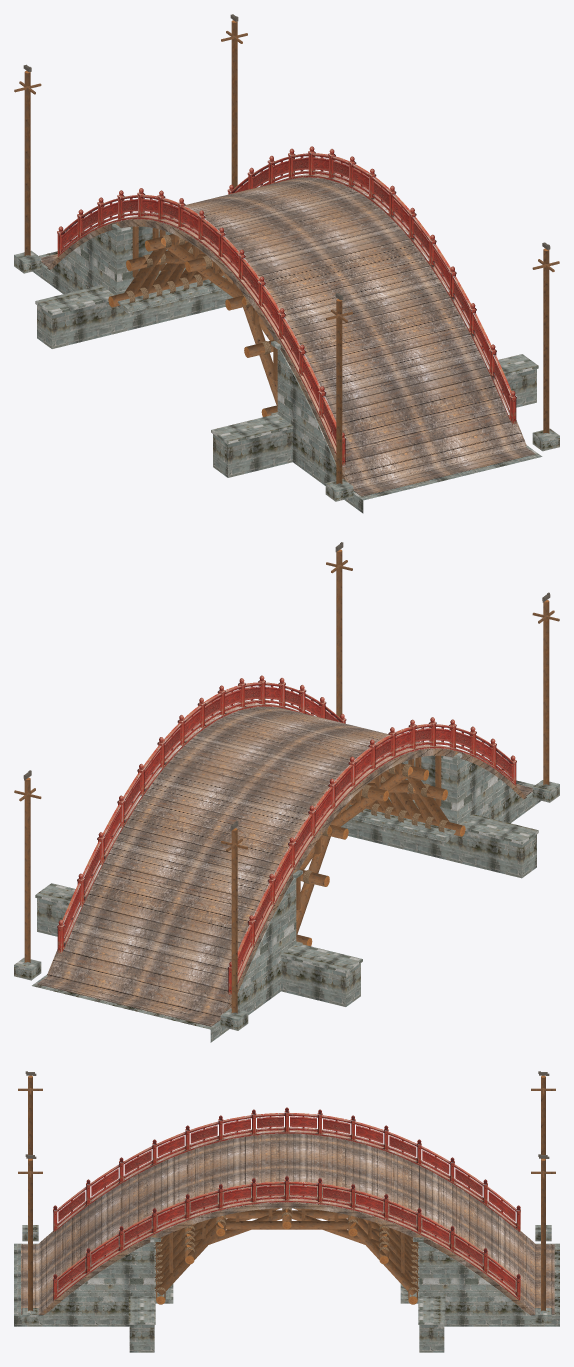
The model's file is qm_bridge.glb.
The picture shows the model from 3 angles, top to bottom: view 1: azimuth 30°, elevation 25°; view 2: azimuth 150°, elevation 25°; view 3: azimuth 270°, elevation 25°; orthographic projection. The views are drawn at different scales.
Parts seen in each view (by area): view 1: plank, stone, rail_a, rail_b, post, stonetop, log, timber, rope; view 2: plank, stone, rail_a, post, rail_b, stonetop, log, timber, rope; view 3: plank, stone, rail_a, rail_b, log, timber, stonetop, post, rope, endgrain.
Part boxes in pixels (bbox=[...]): plank: bbox=[41, 177, 535, 496]; stone: bbox=[33, 226, 542, 513]; rail_a: bbox=[57, 146, 516, 465]; rail_b: bbox=[78, 153, 511, 454]; post: bbox=[14, 22, 559, 483]; stonetop: bbox=[14, 224, 559, 501]; log: bbox=[110, 234, 277, 415]; timber: bbox=[47, 219, 526, 482]; rope: bbox=[125, 234, 270, 354]; plank: bbox=[37, 706, 532, 1026]; stone: bbox=[32, 755, 540, 1042]; rail_a: bbox=[57, 675, 516, 994]; post: bbox=[14, 551, 559, 1013]; rail_b: bbox=[82, 682, 515, 945]; stonetop: bbox=[14, 753, 559, 1030]; log: bbox=[296, 763, 462, 945]; timber: bbox=[47, 749, 526, 1011]; rope: bbox=[303, 764, 448, 883]; plank: bbox=[21, 1133, 554, 1314]; stone: bbox=[14, 1242, 559, 1352]; rail_a: bbox=[53, 1107, 520, 1300]; rail_b: bbox=[55, 1113, 485, 1299]; log: bbox=[154, 1208, 419, 1299]; timber: bbox=[38, 1134, 535, 1315]; stonetop: bbox=[22, 1225, 551, 1324]; post: bbox=[18, 1077, 555, 1310]; rope: bbox=[155, 1208, 418, 1292]; endgrain: bbox=[28, 1075, 545, 1304].
Size of the model in its own units: 14.3 by 9.47 by 26.4.
Materials: 11 (10 with a texture image).
